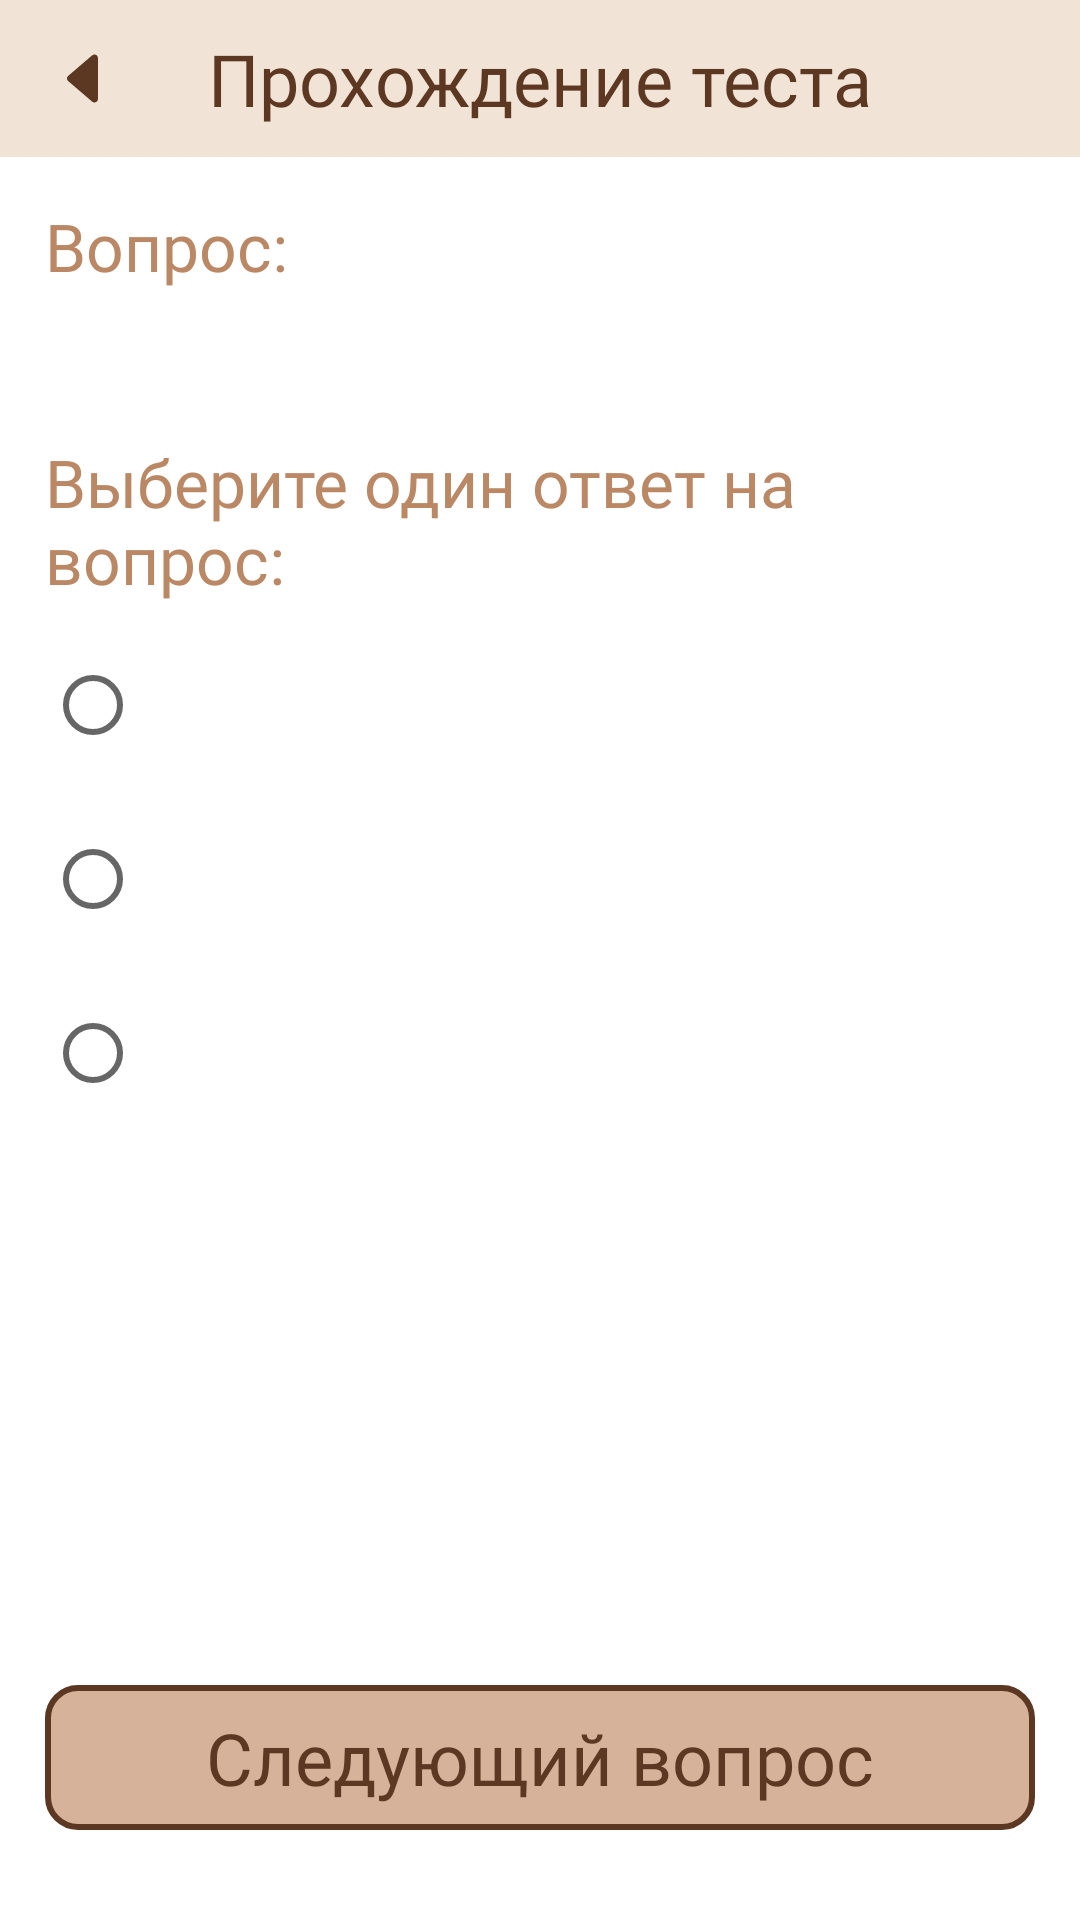

Screen size 1080w x 1920h. Icon name, then its box in pixels as (x1, y1, x2, y2):
back: (67, 54, 98, 103)
